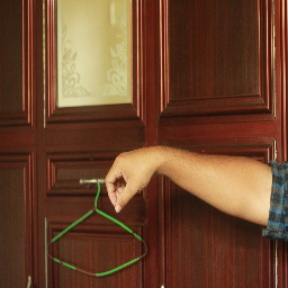O: (103, 147, 161, 213)
